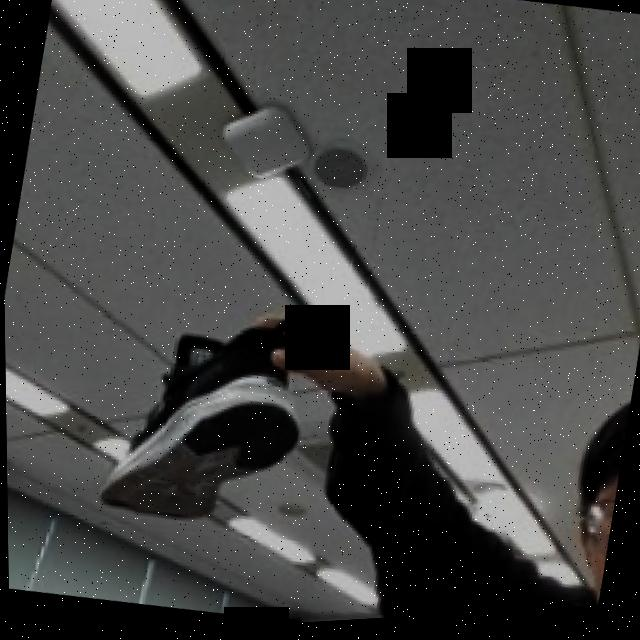shoe: (61, 252, 383, 562)
